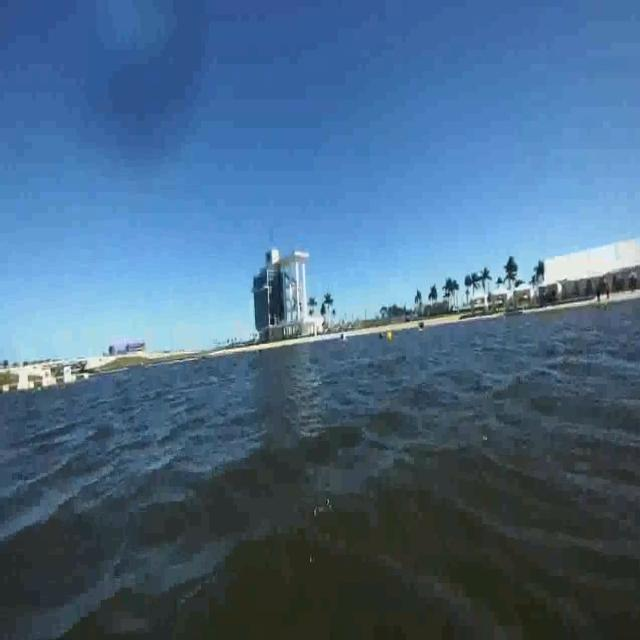green-column-buoy: (21, 607, 38, 640)
yellow-buoy: (387, 331, 394, 344)
